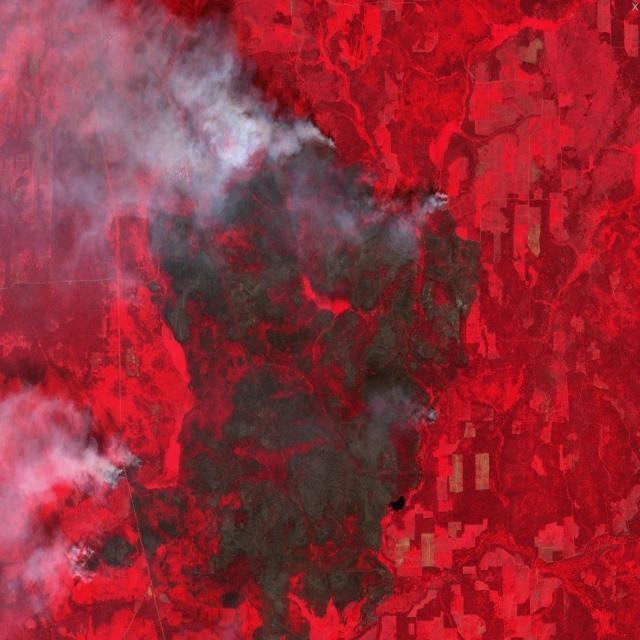fire: (165, 106, 453, 218), (70, 449, 150, 577), (422, 402, 441, 432)
